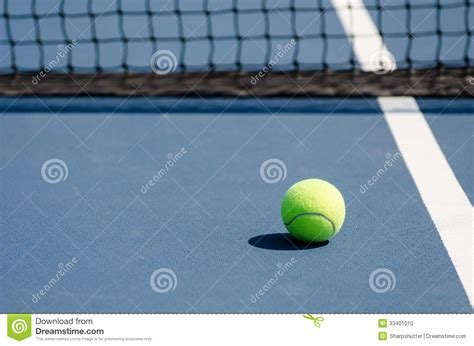tennis_ball: (280, 177, 346, 242)
